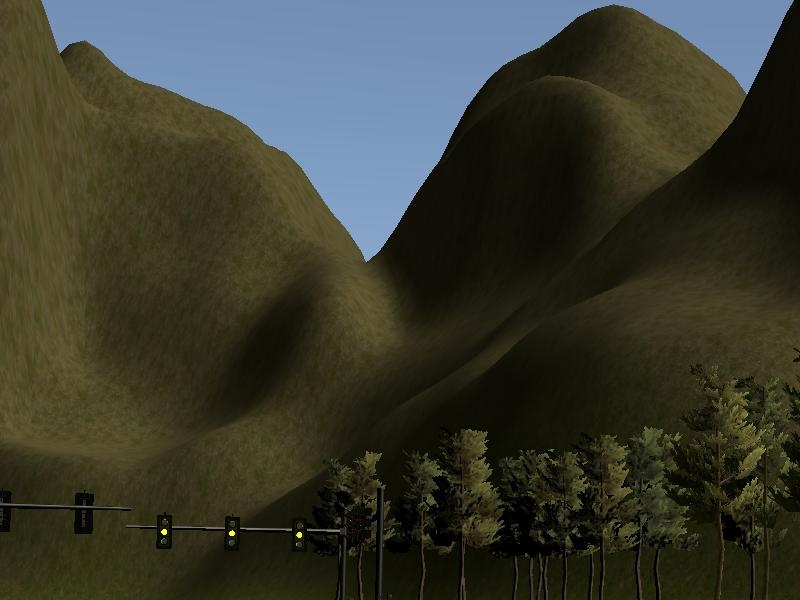yellow: (290, 514, 309, 555), (154, 514, 172, 550), (224, 514, 240, 552)
